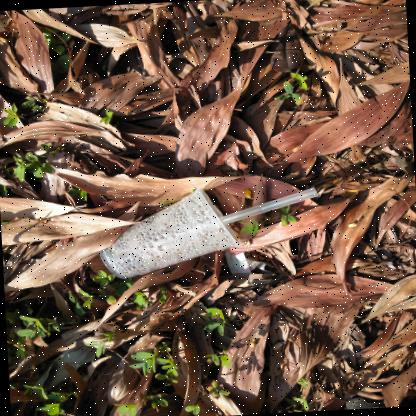Disposable plastic cup: (99, 186, 241, 279)
Other plastic: (225, 251, 273, 274)
Plastic straw: (221, 187, 318, 224)
